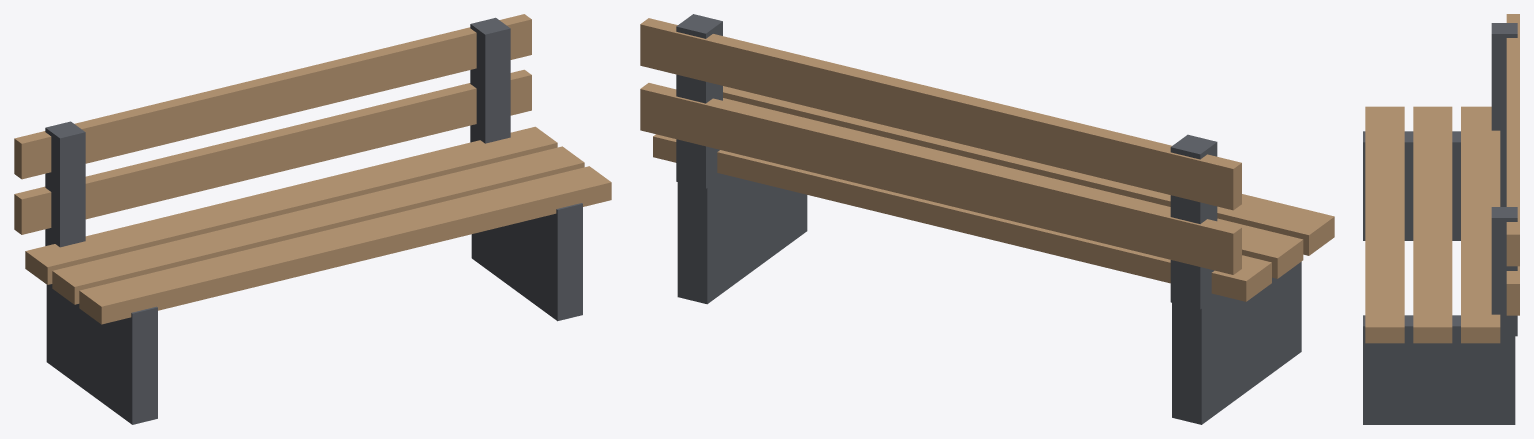
File: bench_park.glb
3 renders of one model, left to right at view 1: azimuth 30°, elevation 25°; view 2: azimuth 150°, elevation 25°; view 3: azimuth 270°, elevation 25°, orthographic. The views are drawn at different scales.
Parts seen in each view (by area): view 1: bench_park_body; view 2: bench_park_body; view 3: bench_park_body.
Boxes of the visible parts, left/top/right/bottom form: bench_park_body: left=14, top=14, right=611, bottom=424; bench_park_body: left=640, top=14, right=1334, bottom=424; bench_park_body: left=1363, top=14, right=1519, bottom=424.
Size of the model in its own units: 0.24 by 0.105 by 0.072.
